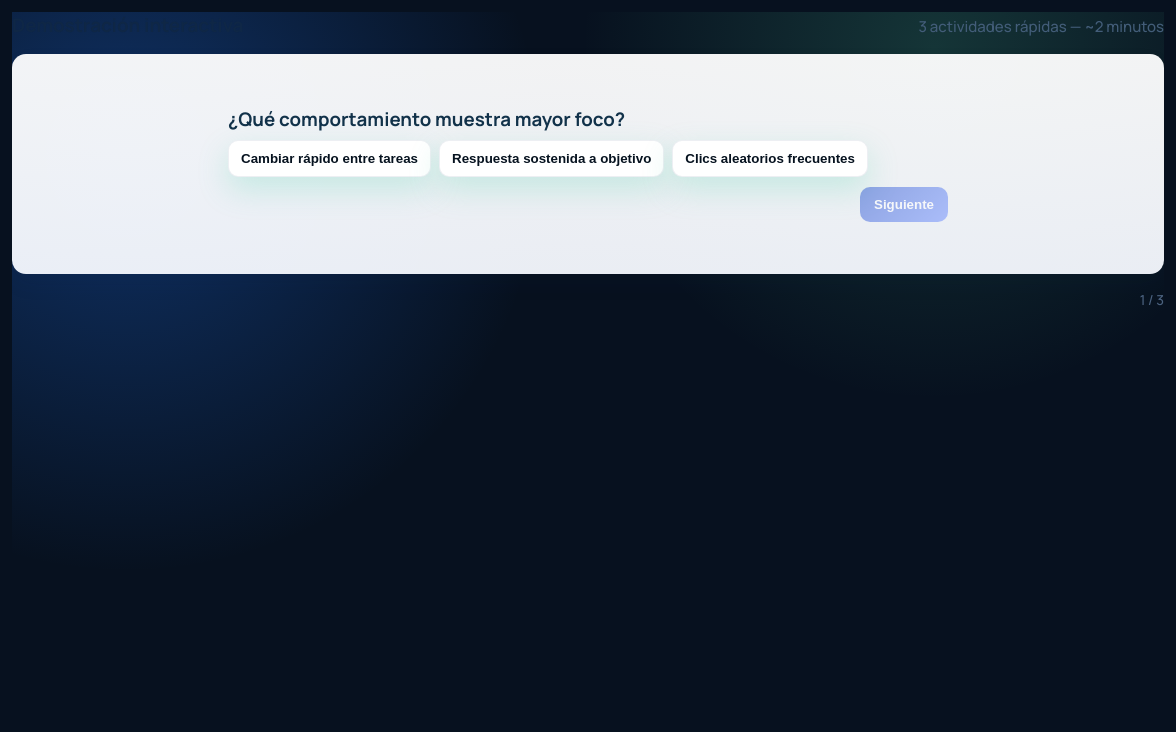
HeroDemo › renders and advances after quiz selection
Step 1. Click the button "Cambiar rápido entre tareas" → coordinates (330, 158), box [228,140,431,177]
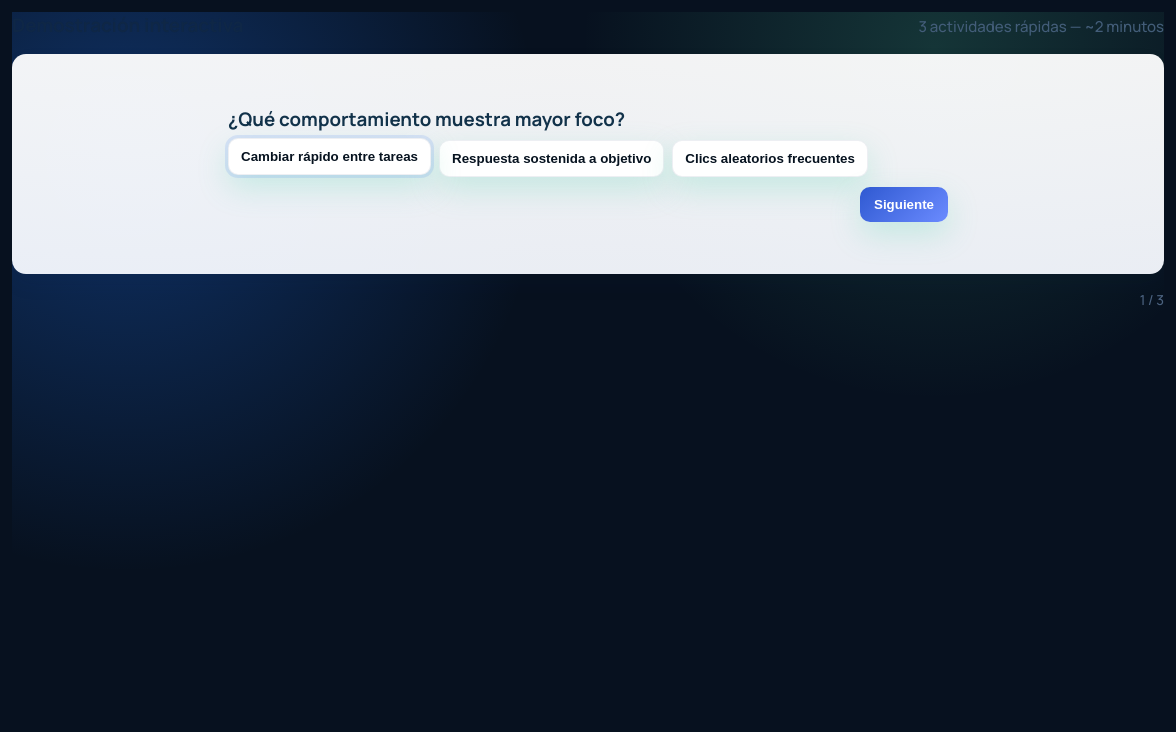
// Click next
Step 2. Click the button "Siguiente" → coordinates (904, 204), box [860,187,948,222]
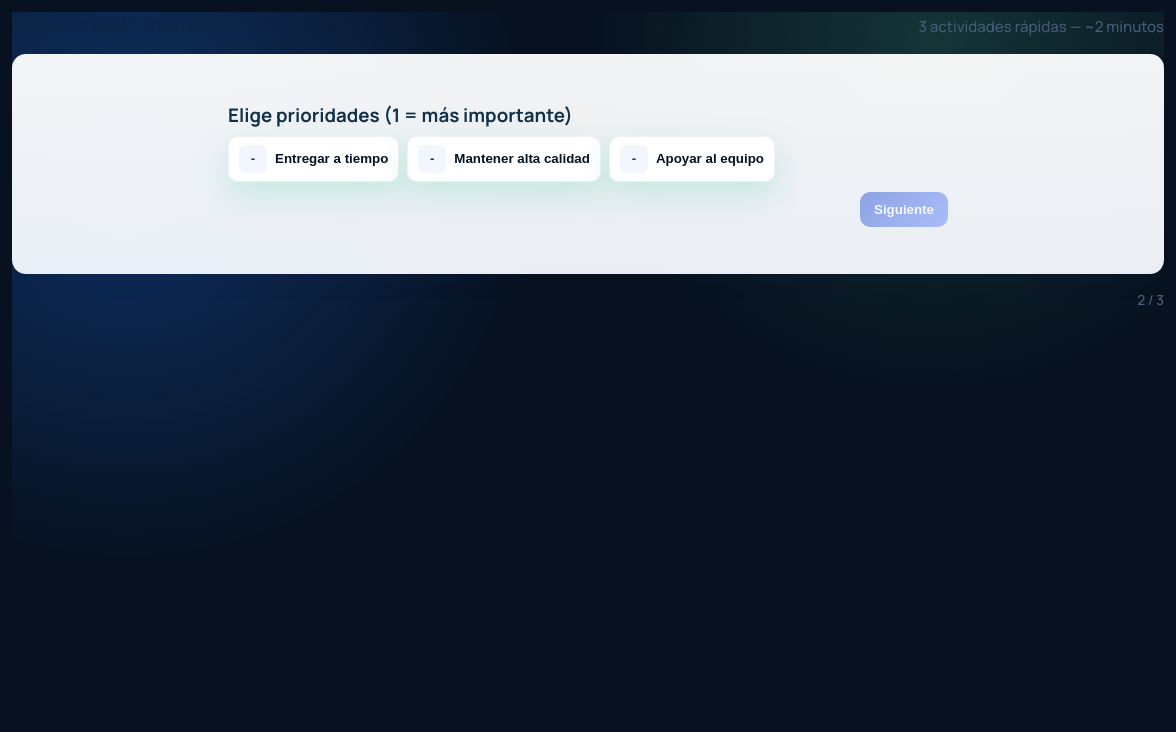
Expected: the text "2 / 3" is shown, [1137,290,1164,309]
